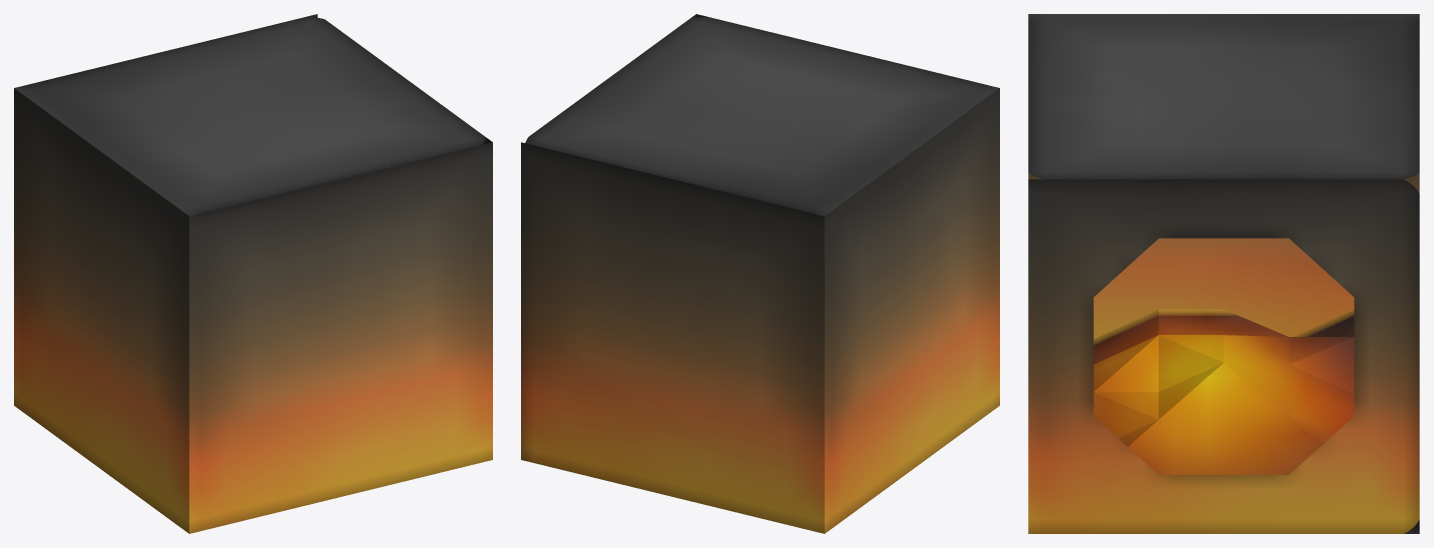
Rendered from firebox_inner_burning.obj.
3 views of the same model, side by side, from view 1: azimuth 30°, elevation 25°; view 2: azimuth 150°, elevation 25°; view 3: azimuth 270°, elevation 25° (orthographic). The views are drawn at different scales.
Visible parts, largest first — view 1: InnerBurning; view 2: InnerBurning; view 3: InnerBurning.
Part boxes in pixels (box(x1,y1,x2,y2)): InnerBurning: box(14, 14, 492, 533); InnerBurning: box(521, 14, 999, 533); InnerBurning: box(1028, 14, 1419, 533).
Bounding box in the file's own units: 0.75 × 0.75 × 0.75.
